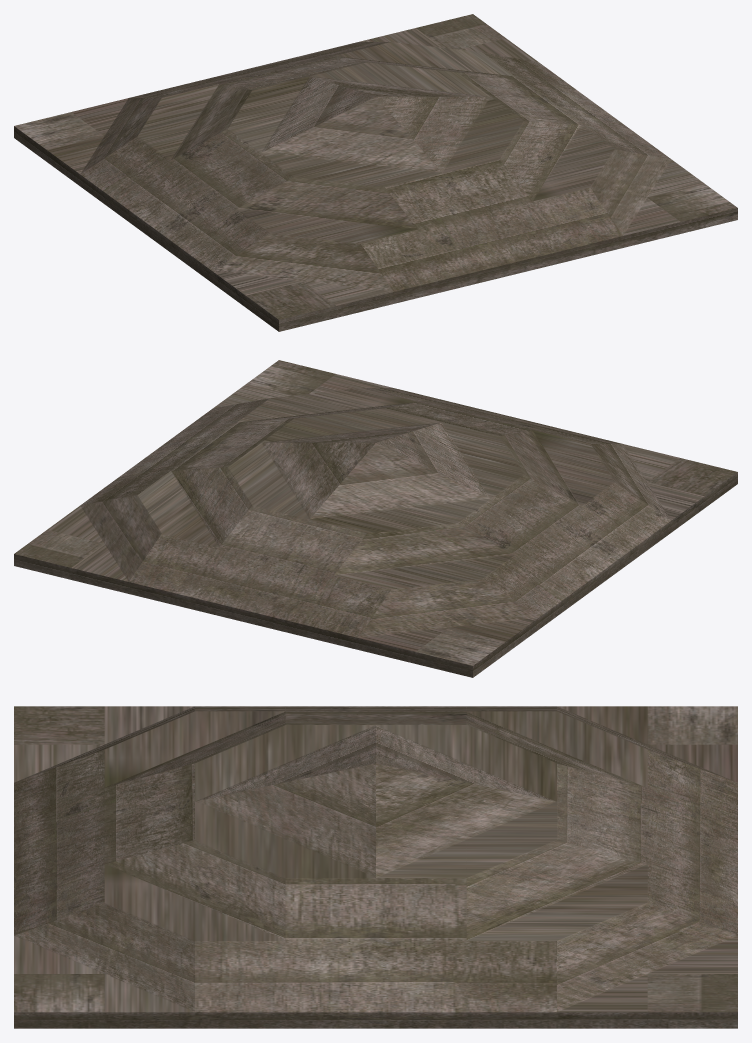
The model's file is house9.obj.
3 views of the same model, one above another, from view 1: azimuth 30°, elevation 25°; view 2: azimuth 150°, elevation 25°; view 3: azimuth 270°, elevation 25° (orthographic). The views are drawn at different scales.
Parts seen in each view (by area): view 1: 立方体.009; view 2: 立方体.009; view 3: 立方体.009.
Part boxes in pixels (x1,y1,x2,y2): 立方体.009: (14, 14, 737, 331); 立方体.009: (14, 360, 737, 677); 立方体.009: (14, 706, 737, 1028).
Size of the model in its own units: 20 by 3.42 by 20.
Materials: 1 (1 with a texture image).
